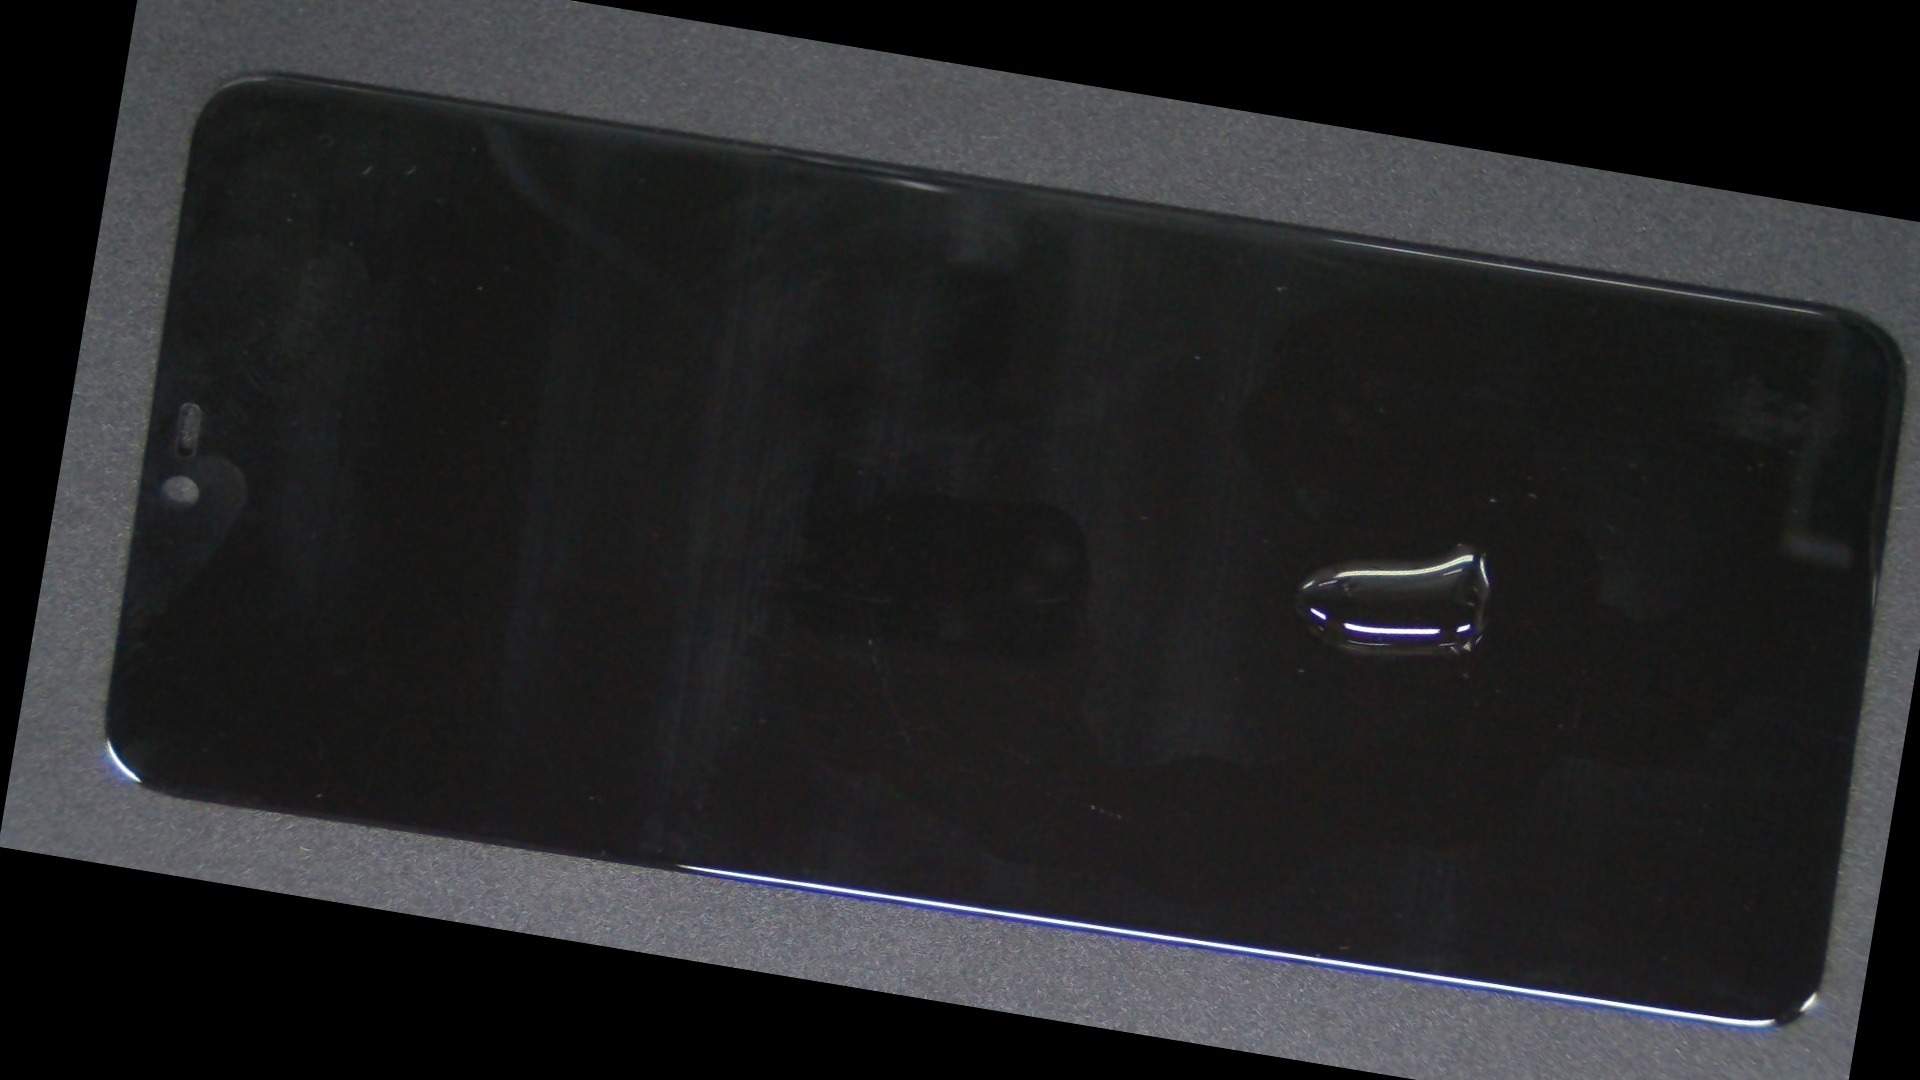oil: (746, 236, 1920, 810)
